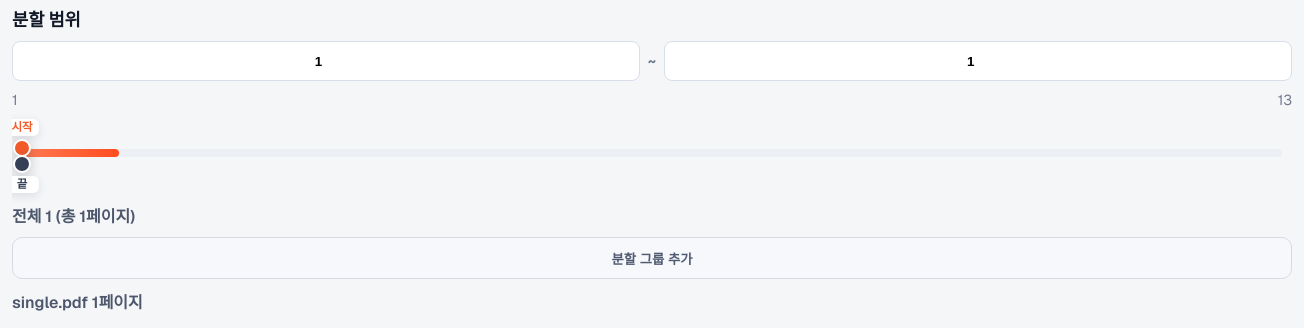
Test: SplitGroupEditor › 시작/끝 범위를 시각적으로 설정해 단일 범위를 갱신한다
Step 1. Replace the text in the number field named "전체 시작 페이지" with "2" → {"x": 326, "y": 61}, box [12,41,640,81]
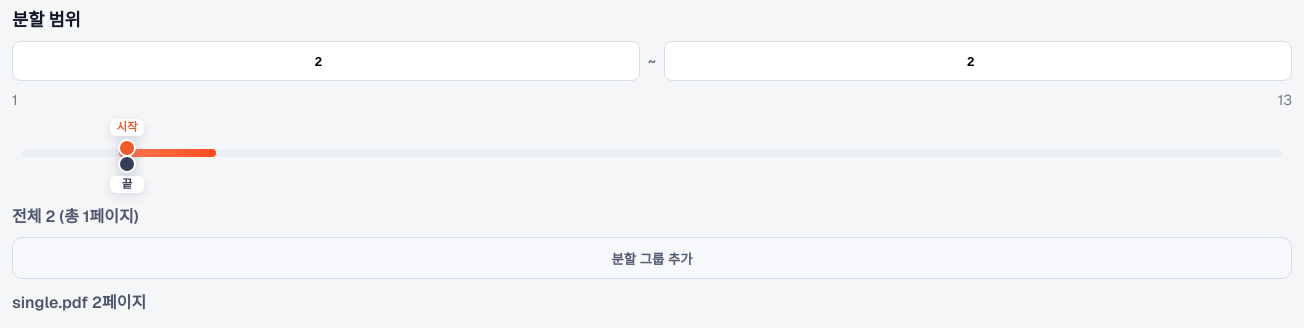
Step 2. Replace the text in the number field named "전체 끝 페이지" with "6" → {"x": 978, "y": 61}, box [664,41,1292,81]
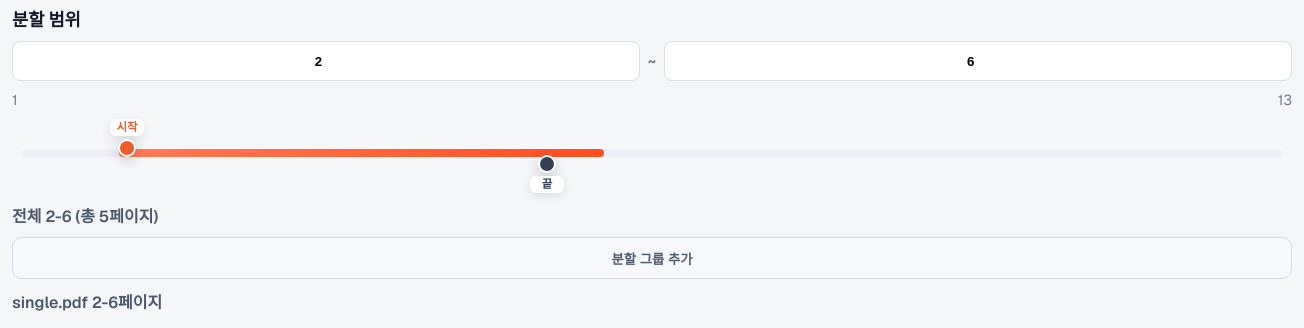
Step 3. Press ArrowRight in the slider named "전체 시작 슬라이더", box [110,119,144,157]
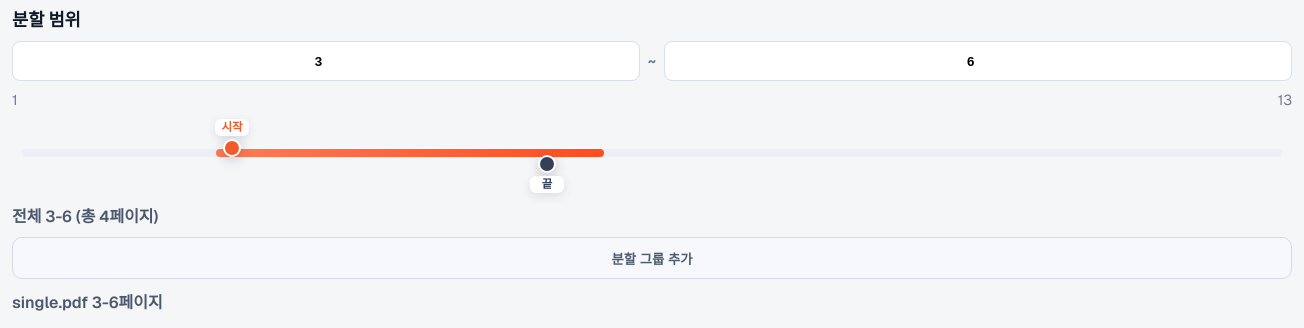
Expected: the text "전체 3-6 (총 4페이지)" is shown, [12,206,158,227]
